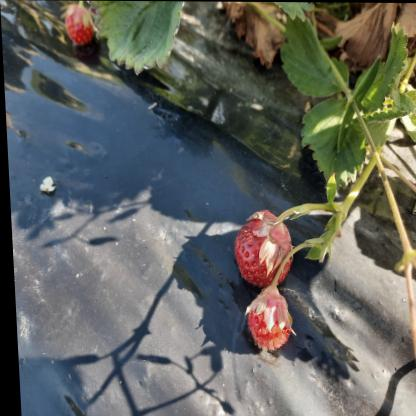ripe: (236, 216, 297, 286), (244, 298, 288, 348), (64, 6, 94, 43)
